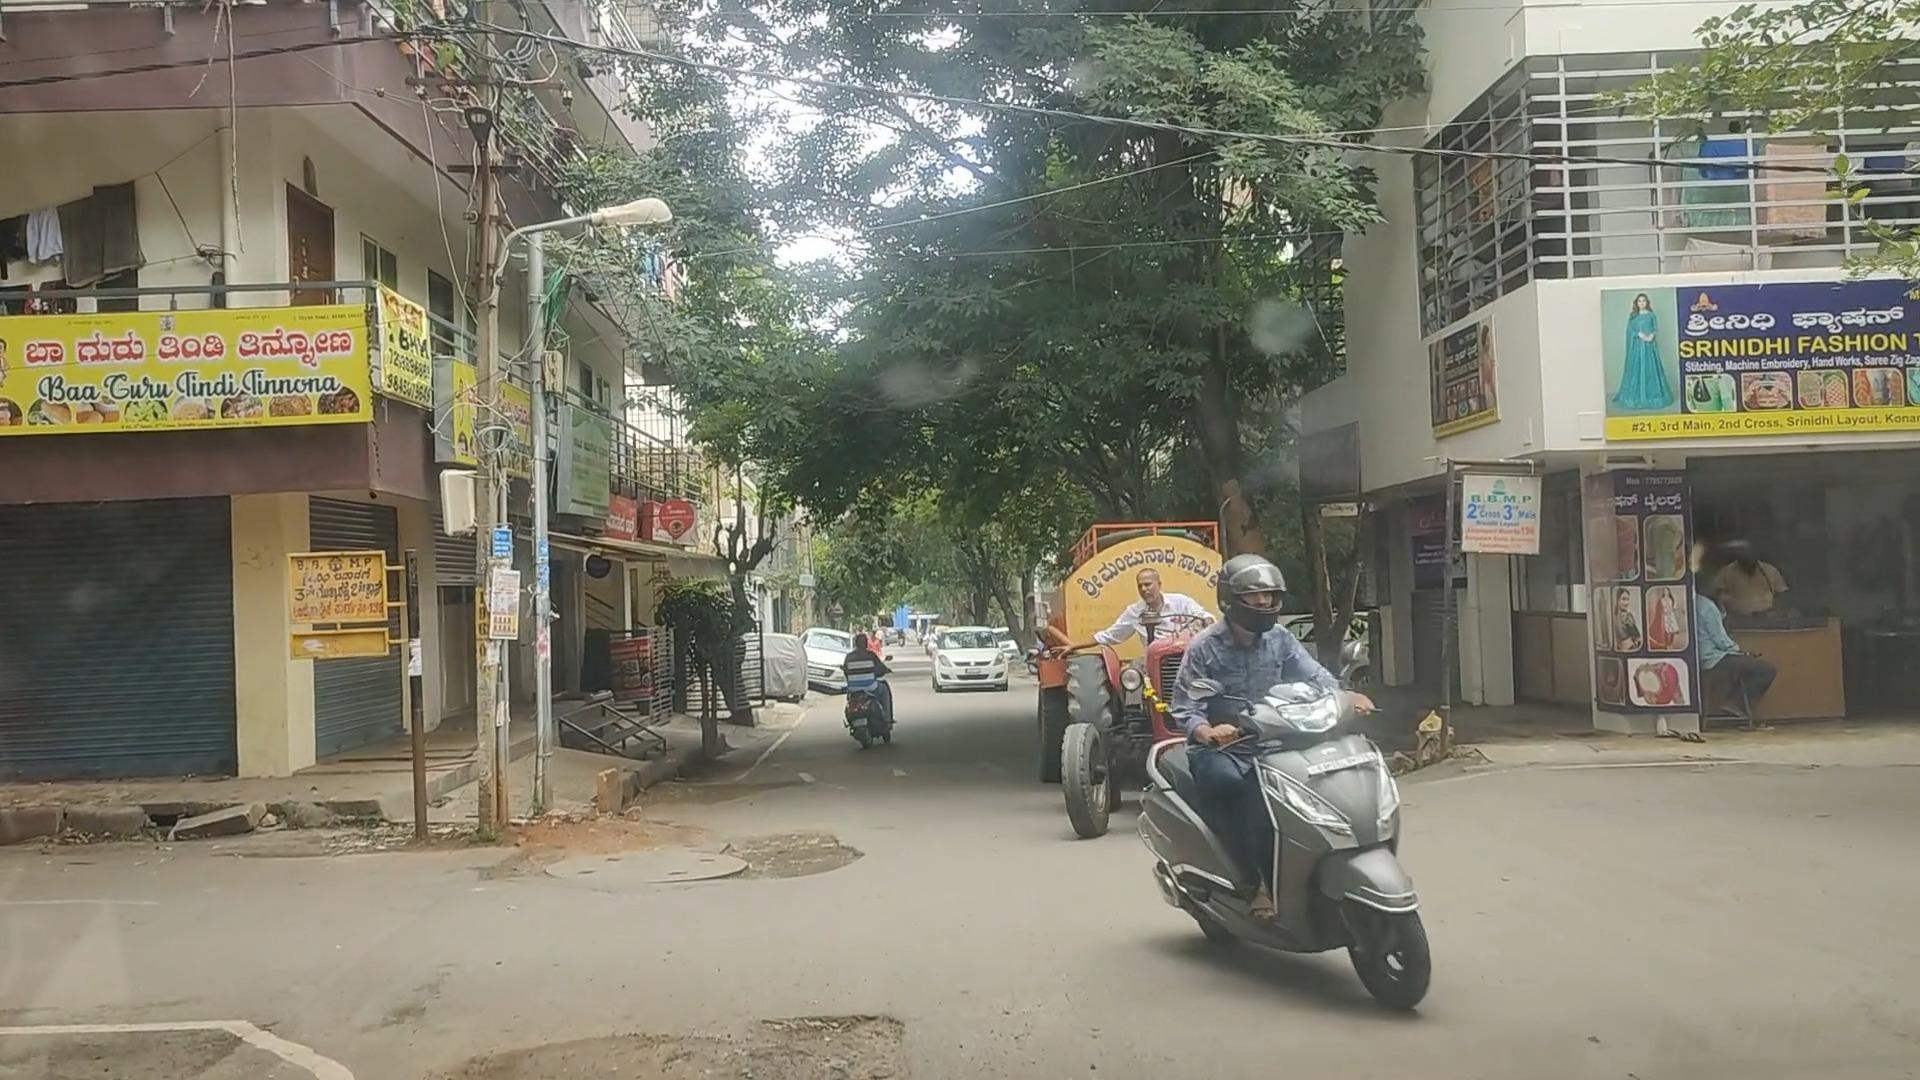LMV: (1162, 541, 1472, 1044)
RoadDamages: (513, 811, 860, 909), (559, 994, 949, 1076)
